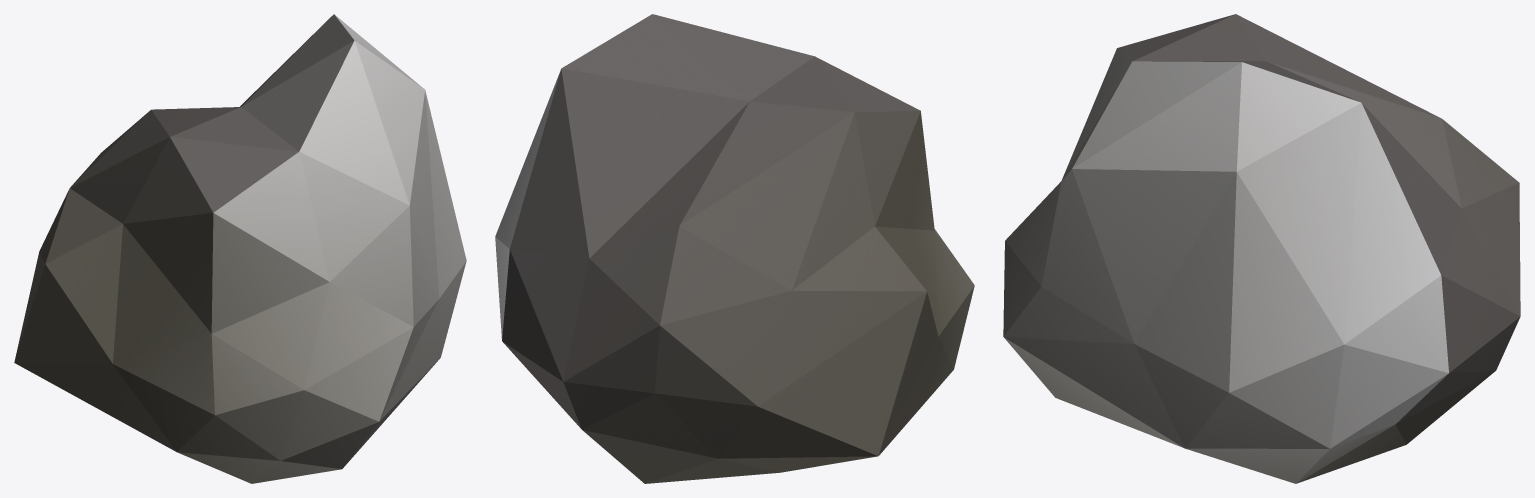
File: rock4.fbx
3 views of the same model, side by side, from view 1: azimuth 30°, elevation 25°; view 2: azimuth 150°, elevation 25°; view 3: azimuth 270°, elevation 25° (orthographic). The views are drawn at different scales.
Parts seen in each view (by area): view 1: ROCKS.004; view 2: ROCKS.004; view 3: ROCKS.004.
Part boxes in pixels (x1=…): ROCKS.004: x1=14, y1=14, x2=466, y2=483; ROCKS.004: x1=495, y1=14, x2=974, y2=483; ROCKS.004: x1=1003, y1=14, x2=1520, y2=483.
Bounding box in the file's own units: 172 × 157 × 175.
